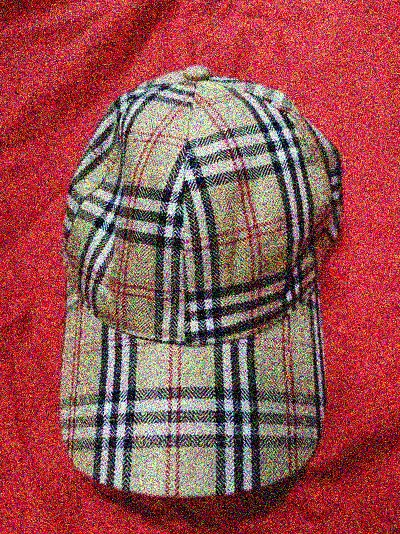Hat: (26, 40, 365, 509)
